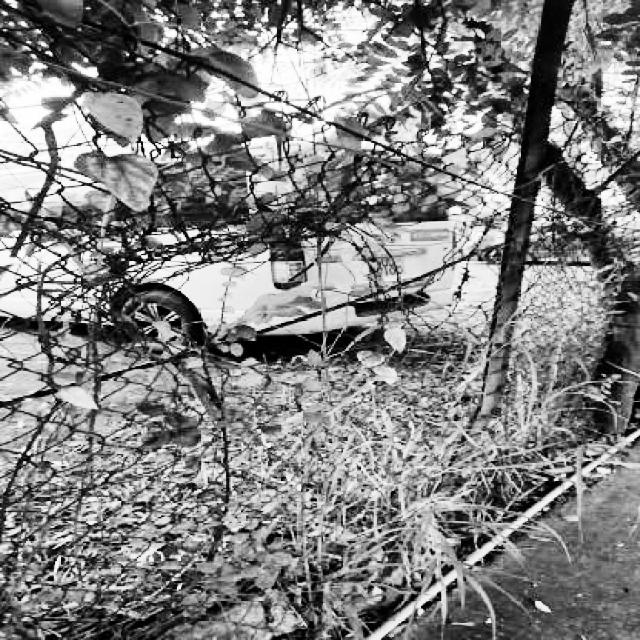anomaly-fence: (2, 116, 602, 552)
